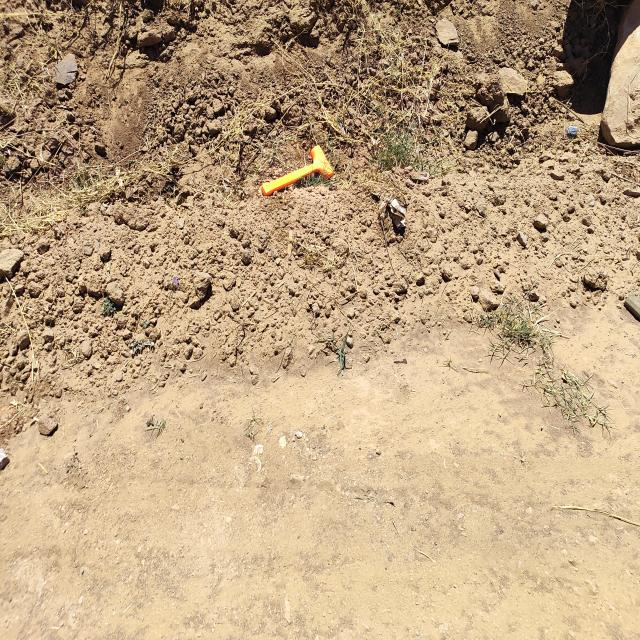Orange_hammer: (259, 144, 335, 198)
